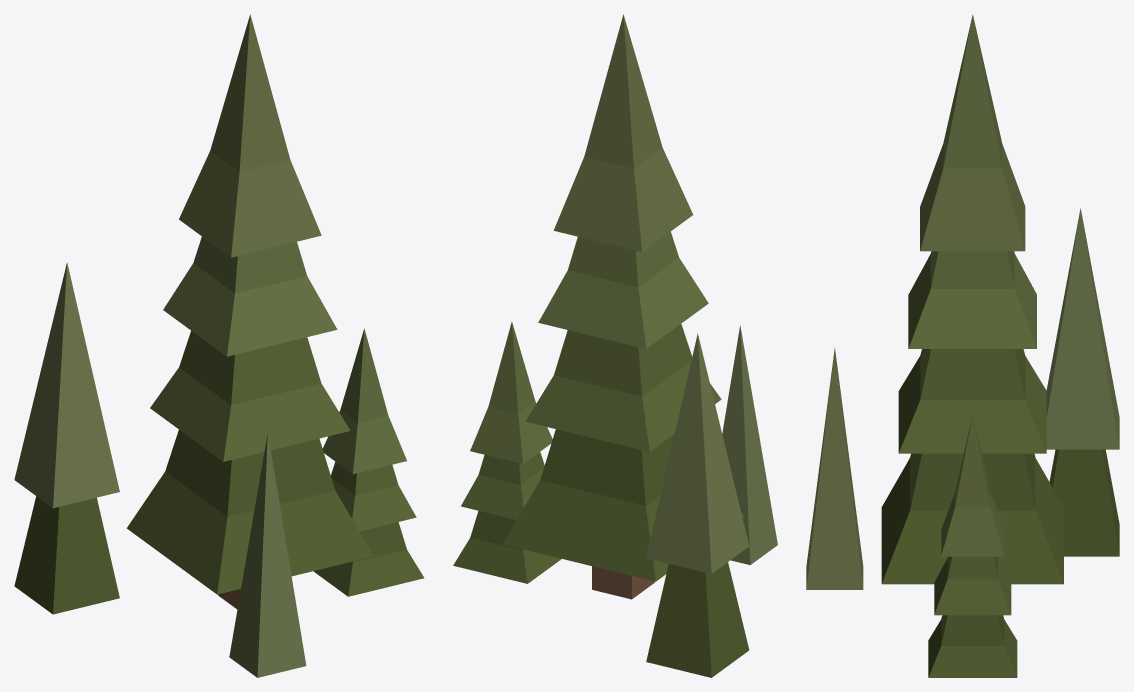
Rendered from tree1.glb.
3 views of the same model, side by side, from view 1: azimuth 30°, elevation 25°; view 2: azimuth 150°, elevation 25°; view 3: azimuth 270°, elevation 25° (orthographic). The views are drawn at different scales.
Visible parts, largest first — view 1: fir_tree_34; view 2: fir_tree_34; view 3: fir_tree_34.
Boxes of the visible parts, <box> form: fir_tree_34: <box>14,14,424,677</box>; fir_tree_34: <box>453,14,777,677</box>; fir_tree_34: <box>806,14,1119,677</box>.
Size of the model in its own units: 2.36 by 4.19 by 2.01.
Materials: 1 (1 with a texture image).
